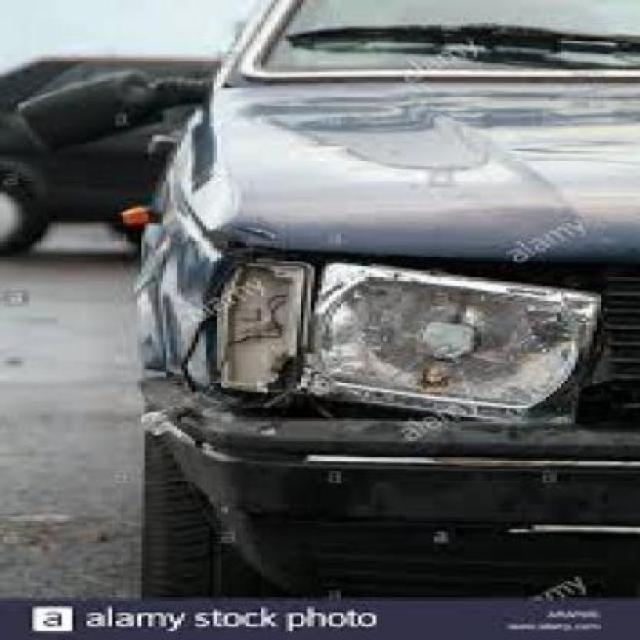Headlight-Damage: (171, 254, 615, 441)
